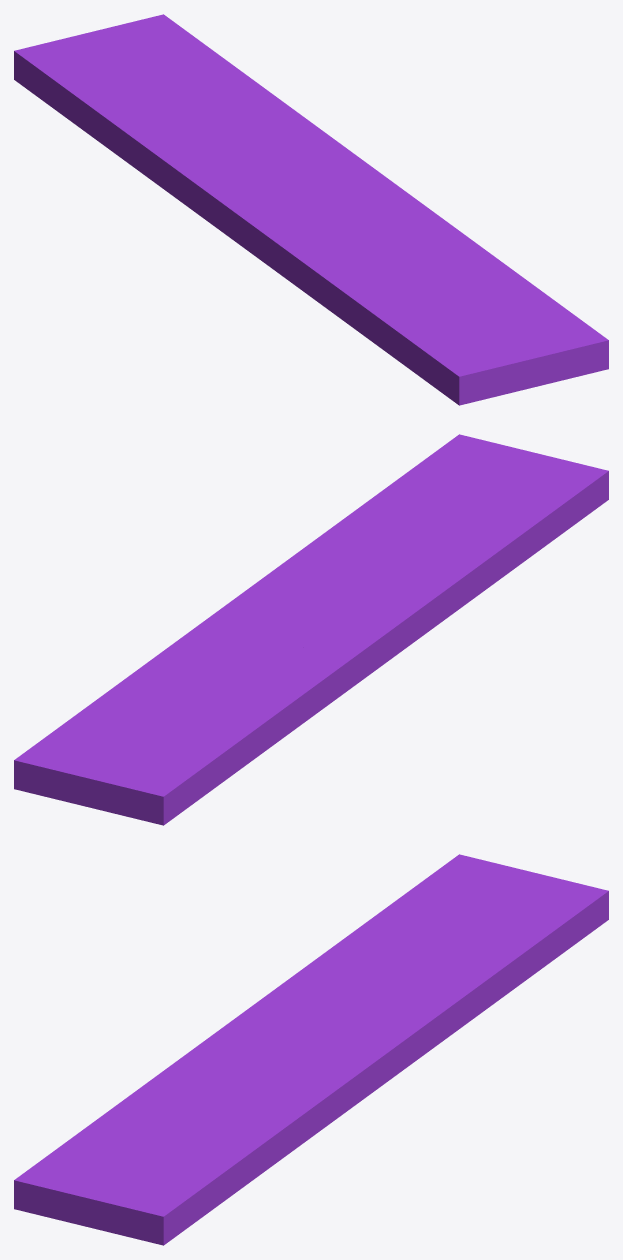
Rendered from StairsStep_137_chunks.fbx.
The picture shows the model from 3 angles, top to bottom: view 1: azimuth 30°, elevation 25°; view 2: azimuth 150°, elevation 25°; view 3: azimuth 330°, elevation 25°; orthographic projection.
Visible parts, largest first — view 1: StairsStep_137_0, StairsStep_137_2, StairsStep_137_3, StairsStep_137_1; view 2: StairsStep_137_2, StairsStep_137_0, StairsStep_137_3, StairsStep_137_1; view 3: StairsStep_137_2, StairsStep_137_0, StairsStep_137_1, StairsStep_137_3.
Boxes of the visible parts, x1=… form: StairsStep_137_0: x1=271, y1=190, x2=608, y2=405; StairsStep_137_2: x1=14, y1=14, x2=395, y2=193; StairsStep_137_3: x1=114, y1=134, x2=297, y2=282; StairsStep_137_1: x1=367, y1=184, x2=608, y2=388; StairsStep_137_2: x1=14, y1=590, x2=313, y2=825; StairsStep_137_0: x1=272, y1=434, x2=608, y2=621; StairsStep_137_3: x1=264, y1=608, x2=441, y2=751; StairsStep_137_1: x1=246, y1=473, x2=405, y2=597; StairsStep_137_2: x1=309, y1=854, x2=608, y2=1080; StairsStep_137_0: x1=14, y1=1029, x2=350, y2=1225; StairsStep_137_1: x1=81, y1=1053, x2=387, y2=1245; StairsStep_137_3: x1=202, y1=937, x2=345, y2=1042.
Bounding box in the file's own units: 157 × 28.98 × 810.
